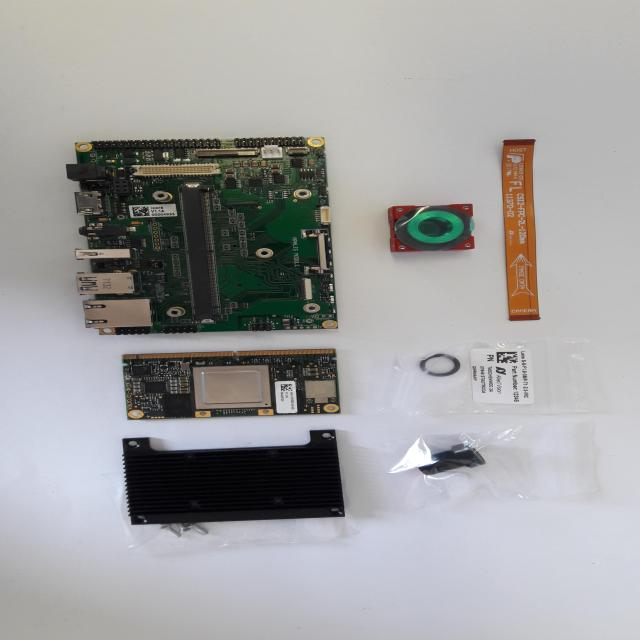som: (108, 346, 358, 421)
